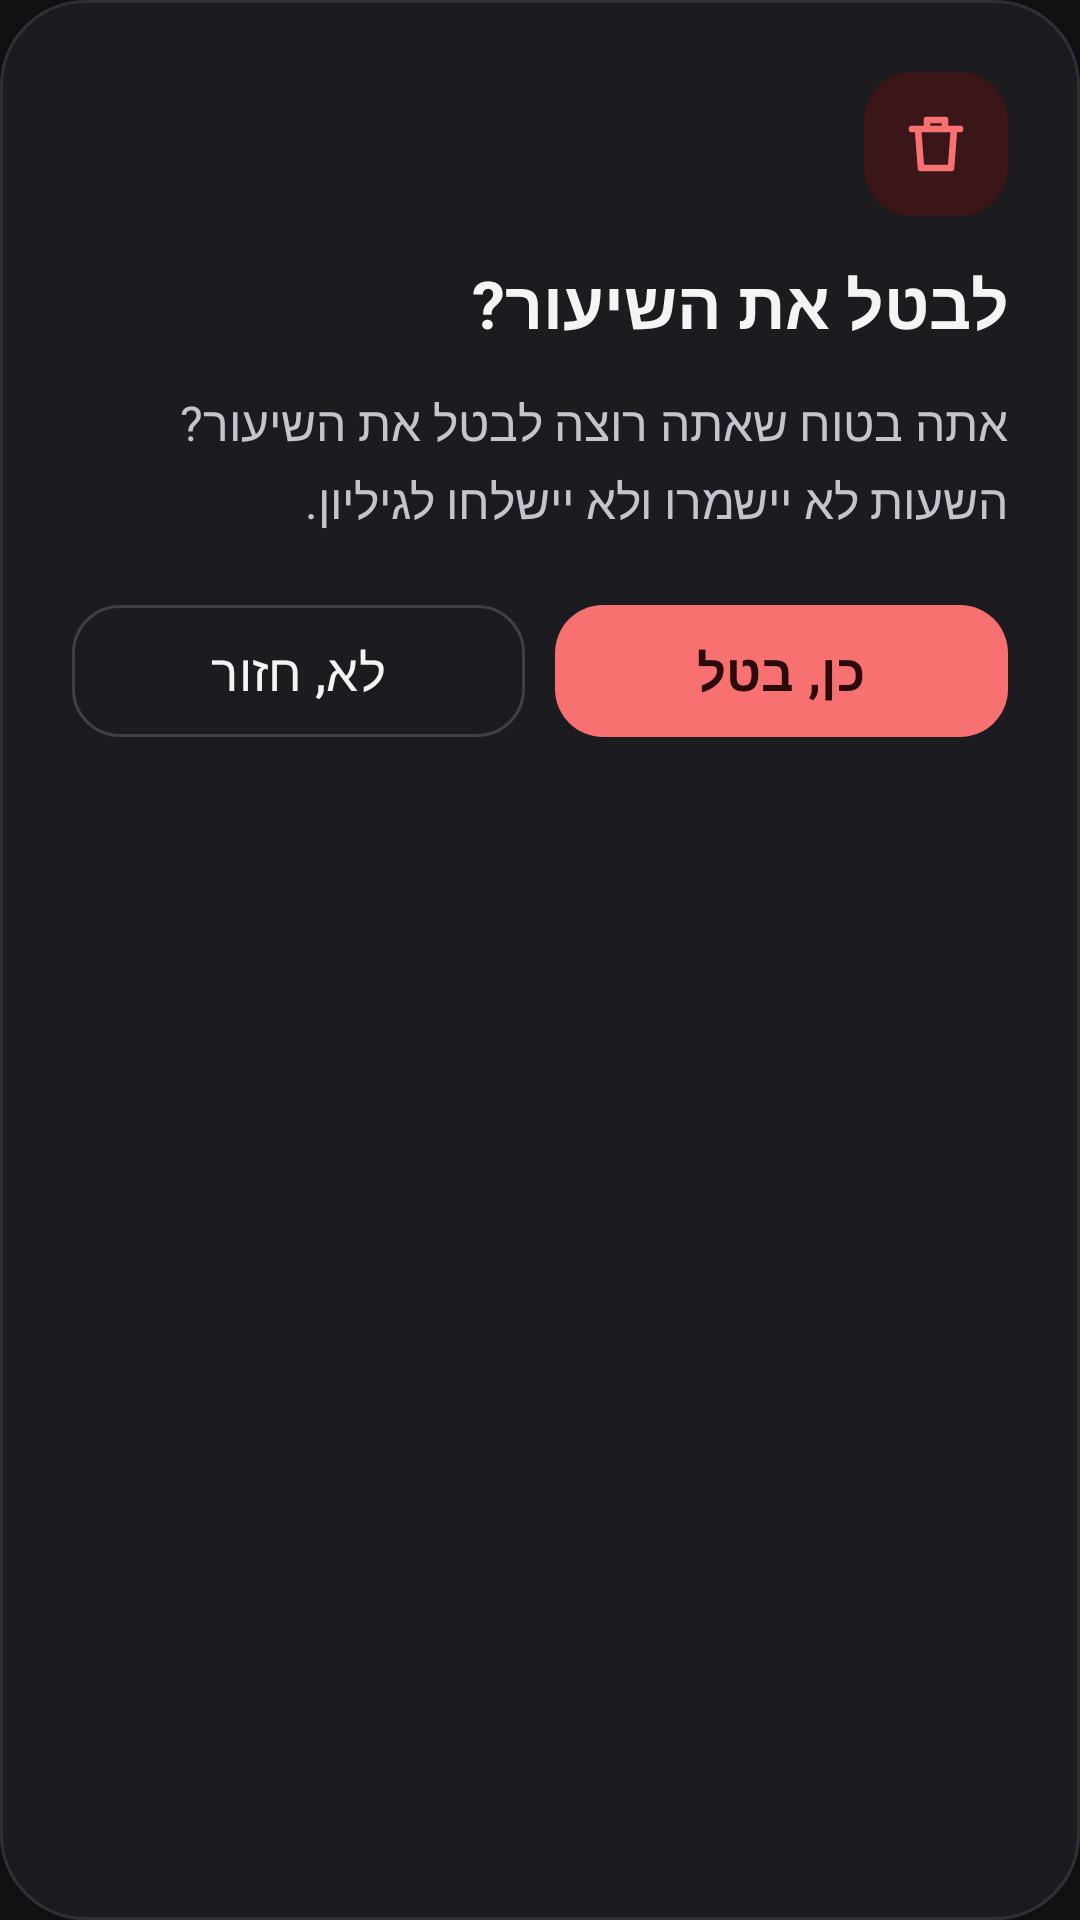

Icons on this 1080*1920 Android screen, each with the point to tap as (x,y):
trash: (936,144)
